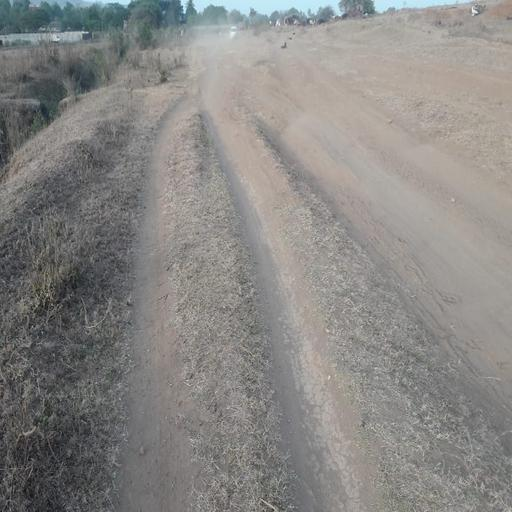vehicle_track: (203, 94, 384, 512), (284, 104, 512, 427), (117, 105, 195, 512)
